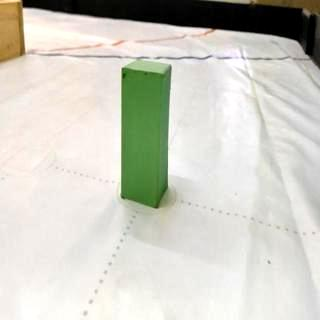greenbox: (118, 58, 174, 208)
